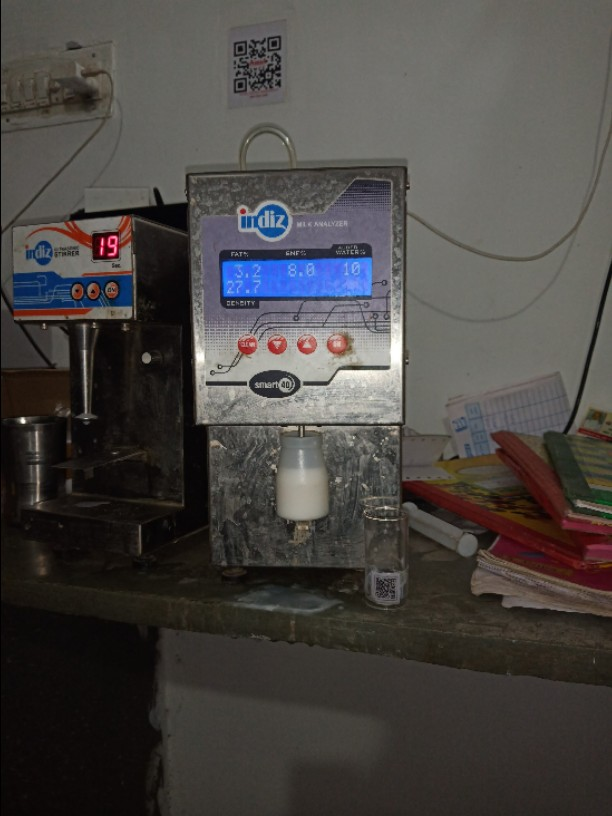lcd: (215, 247, 383, 310)
qr: (367, 567, 409, 608)
